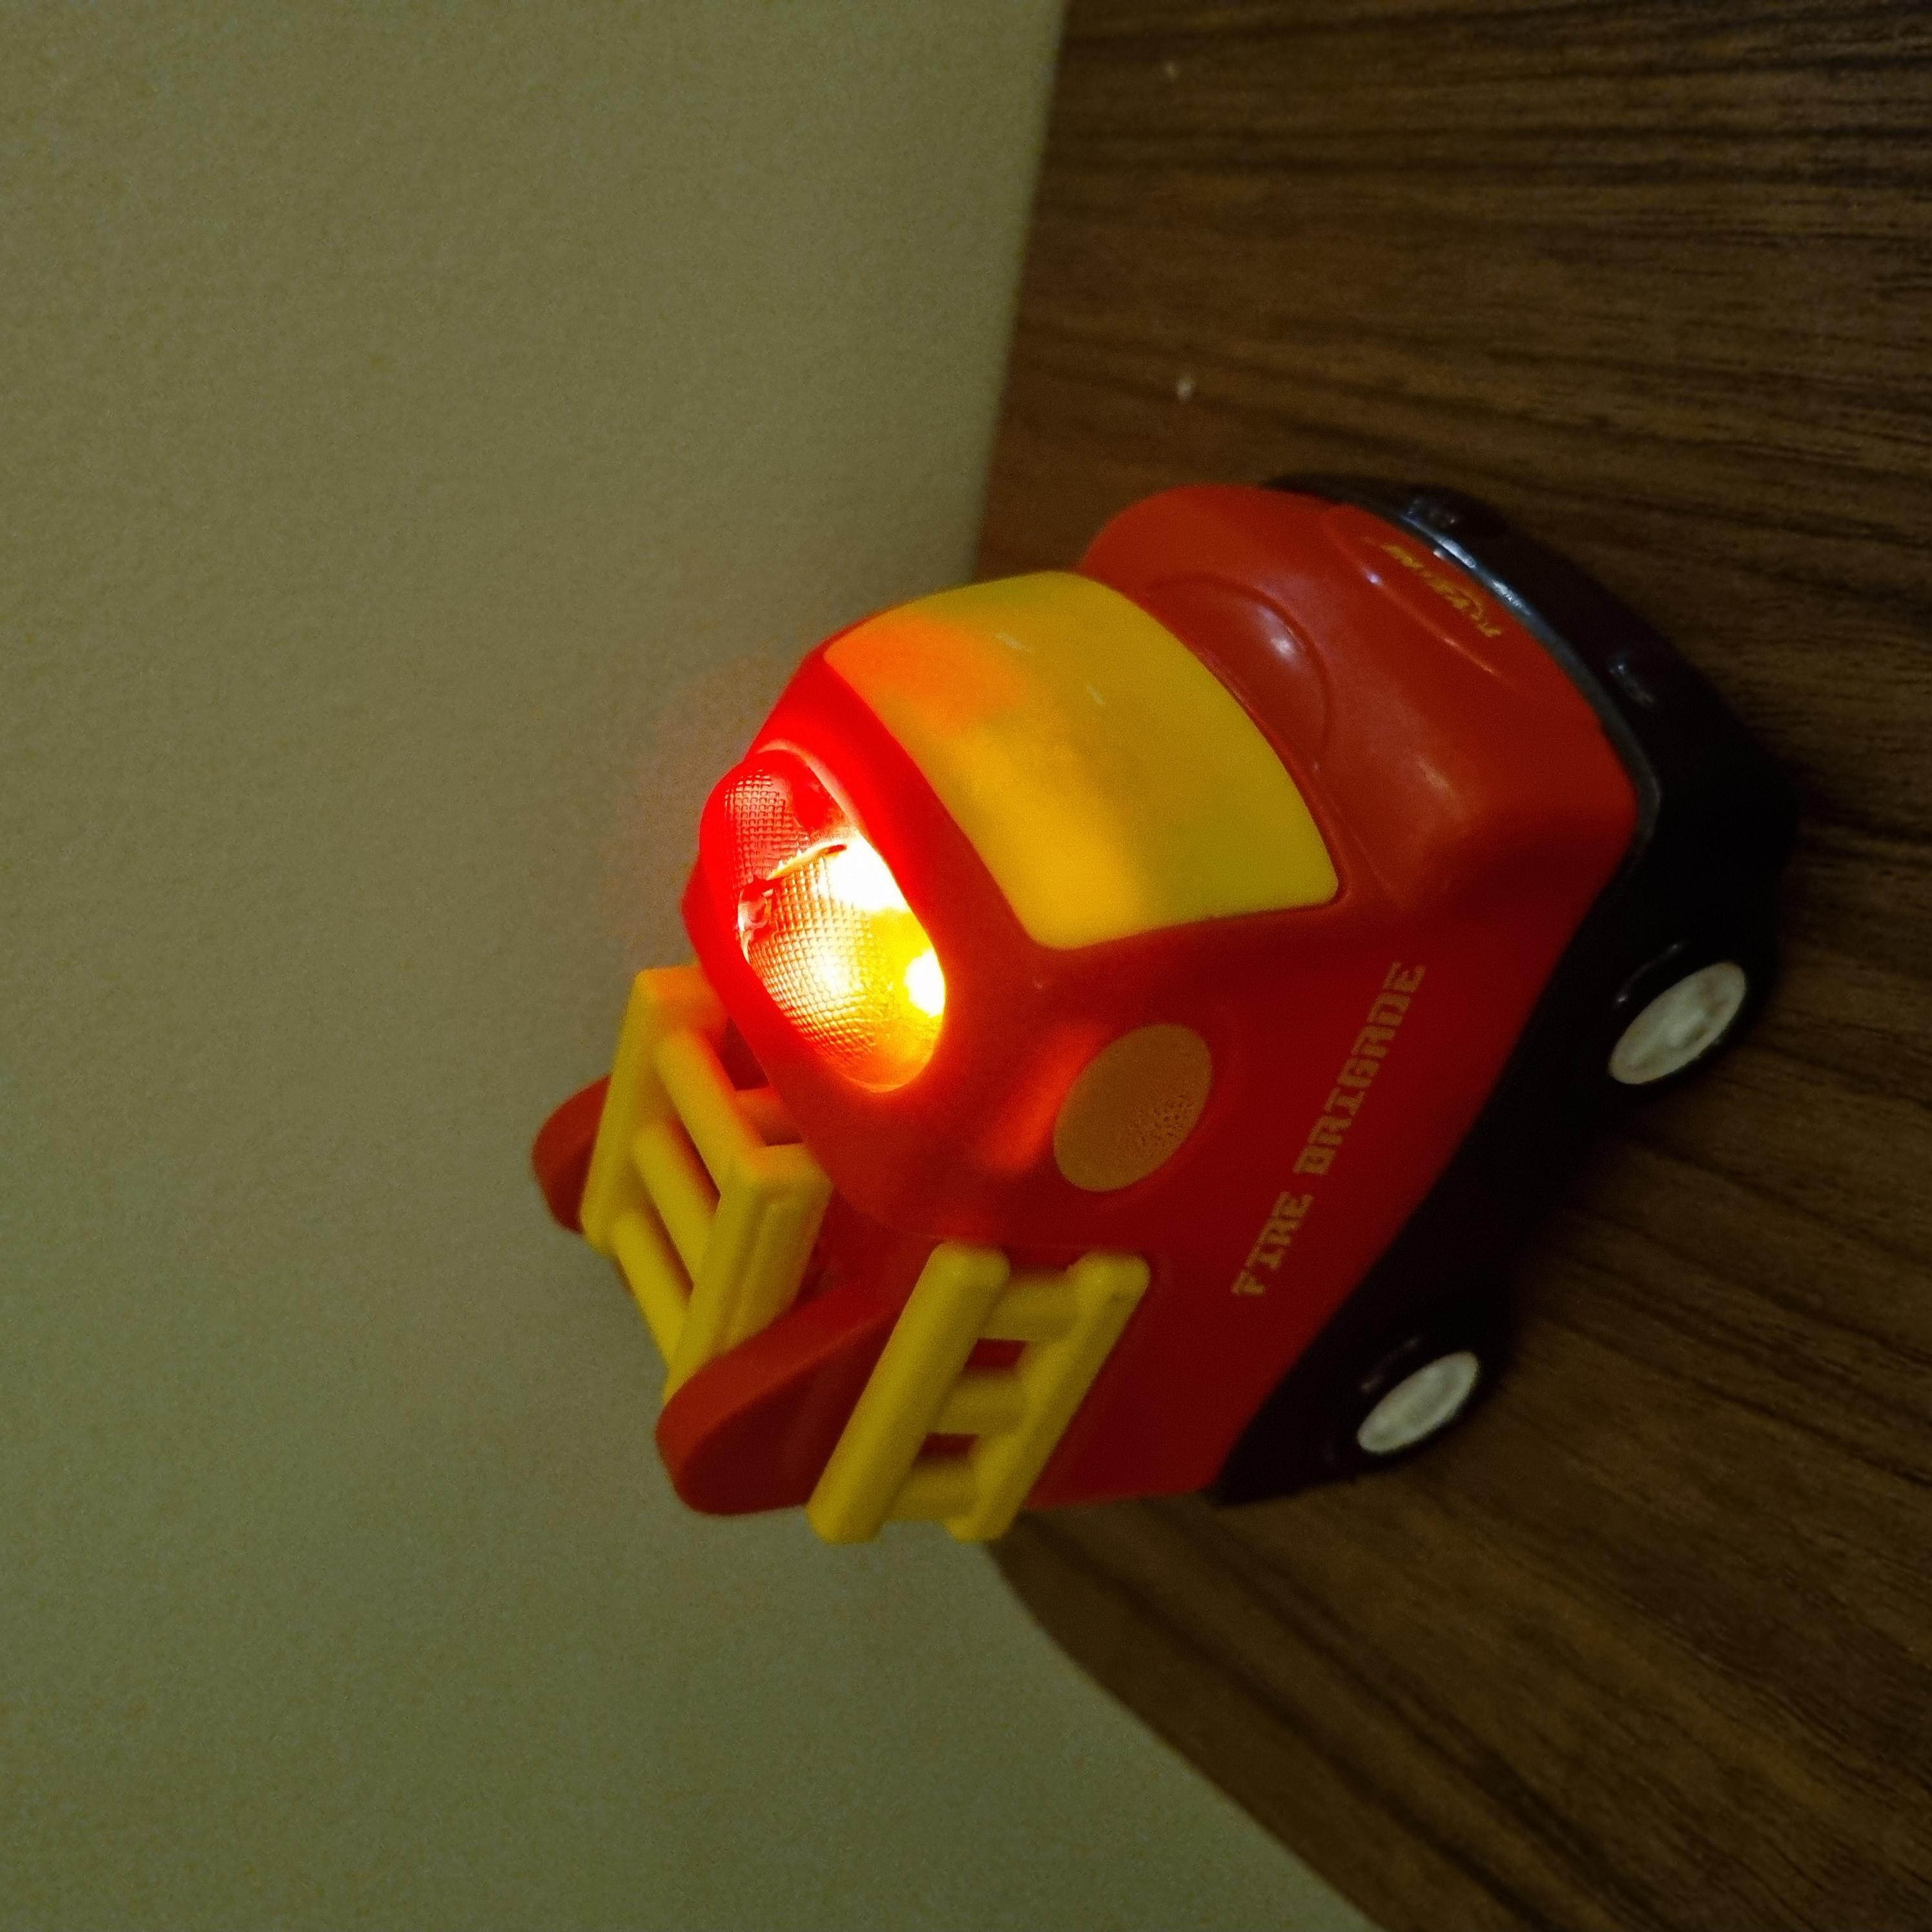firetruck_on: (402, 527, 1463, 1810)
